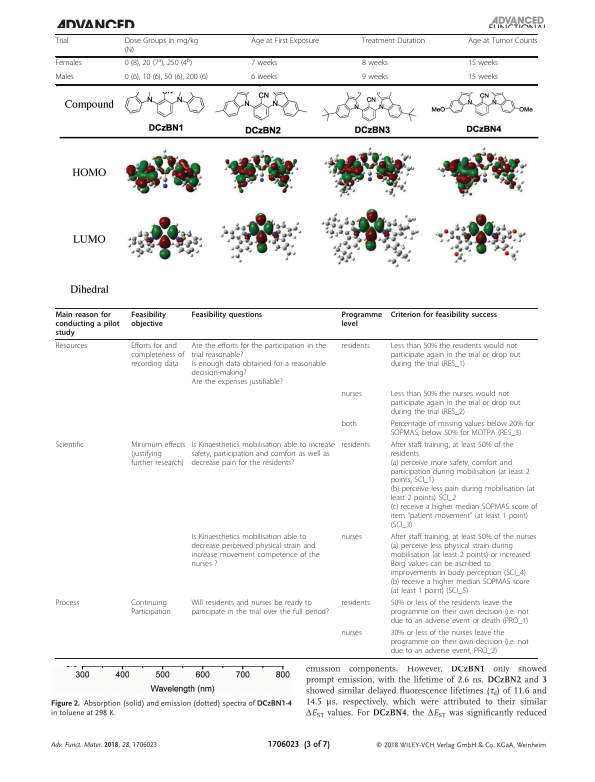borderless: (54, 306, 538, 658), (54, 33, 537, 84)
cell: (390, 440, 538, 530), (390, 532, 537, 596), (190, 341, 327, 386), (190, 532, 320, 569), (190, 440, 336, 467), (390, 598, 530, 626), (390, 628, 530, 656), (390, 341, 521, 369), (390, 389, 521, 416), (190, 598, 330, 617), (390, 419, 535, 437), (55, 310, 120, 337), (130, 341, 185, 369), (130, 440, 186, 467), (124, 37, 199, 55), (390, 310, 498, 319), (124, 73, 209, 83), (124, 57, 193, 69), (130, 598, 172, 617), (340, 310, 383, 328), (130, 310, 167, 328), (190, 310, 263, 319), (467, 37, 538, 46), (250, 37, 320, 46), (361, 37, 426, 46), (55, 341, 88, 351), (467, 59, 499, 69), (467, 73, 499, 83), (340, 341, 371, 351), (340, 598, 371, 608), (250, 59, 278, 69), (361, 59, 389, 69), (250, 73, 278, 83), (361, 73, 389, 83), (54, 440, 85, 449), (340, 440, 371, 449), (55, 59, 82, 69), (54, 598, 80, 608), (340, 532, 363, 542), (340, 628, 363, 638), (54, 73, 75, 83), (340, 389, 363, 398), (340, 419, 358, 428), (55, 37, 69, 46)
